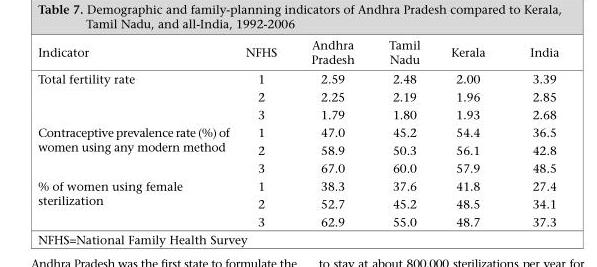table: (37, 37, 558, 228)
table column: (37, 37, 236, 228), (293, 37, 371, 228), (434, 37, 506, 228), (371, 37, 434, 228), (236, 37, 293, 228), (506, 37, 558, 228)
table column header: (37, 37, 558, 68)
table row: (37, 37, 558, 68), (37, 68, 558, 87), (37, 87, 558, 105), (37, 105, 558, 123), (37, 140, 558, 158), (37, 158, 558, 176), (37, 176, 558, 194), (37, 194, 558, 212), (37, 123, 558, 140), (37, 212, 558, 228)
table spanning cell: (37, 68, 236, 123), (37, 123, 236, 176), (37, 176, 236, 228)
